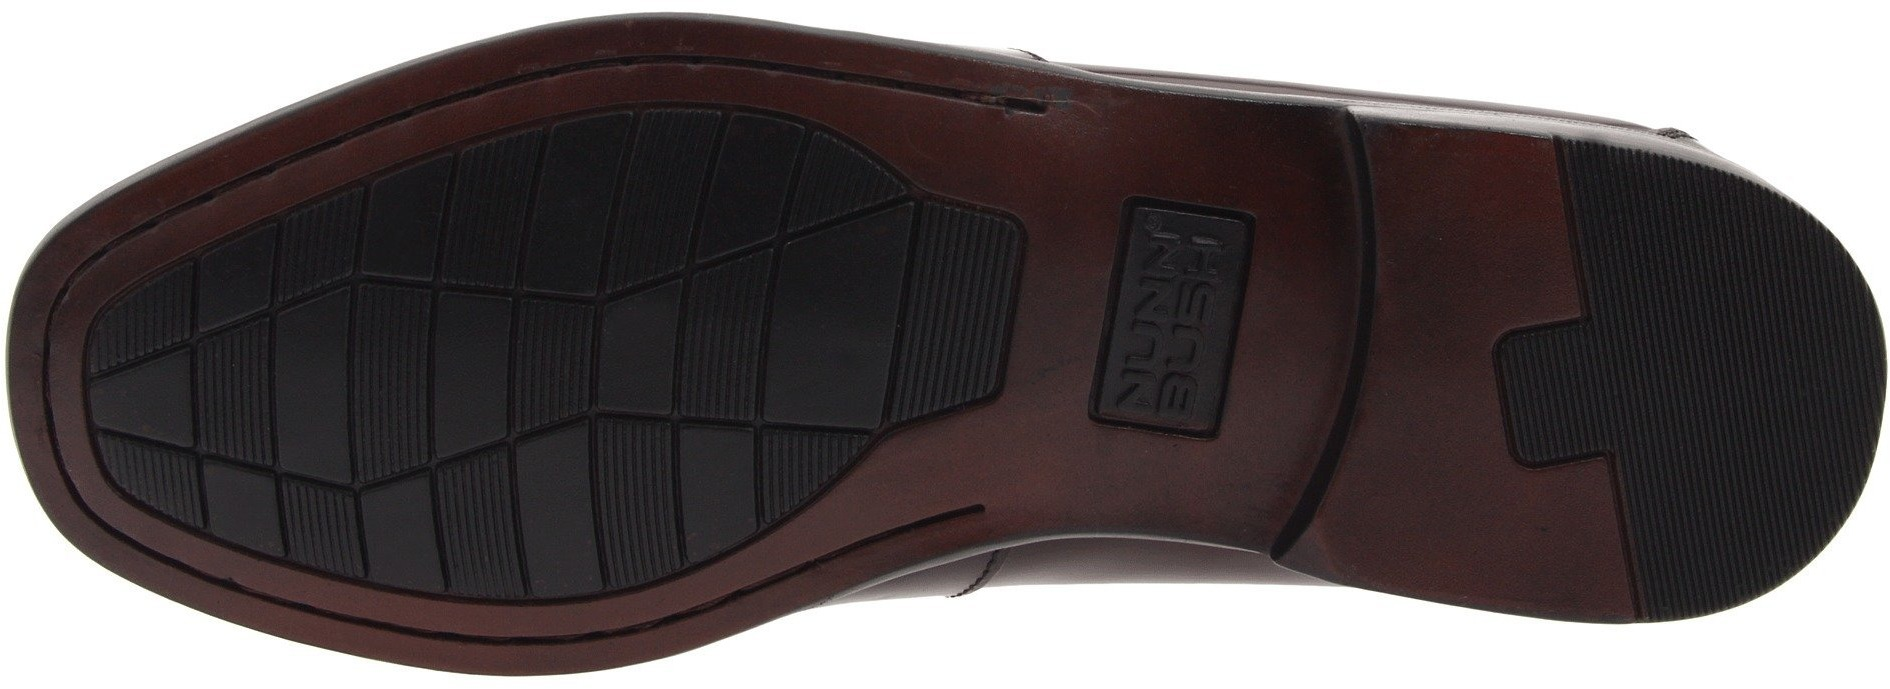other: (1575, 184, 1797, 379), (1608, 357, 1820, 558), (1385, 160, 1551, 317)
quad: (331, 132, 785, 563), (765, 152, 1053, 479), (1009, 173, 1297, 461), (130, 281, 352, 510)
ribbon: (716, 348, 809, 517), (865, 49, 967, 139)
